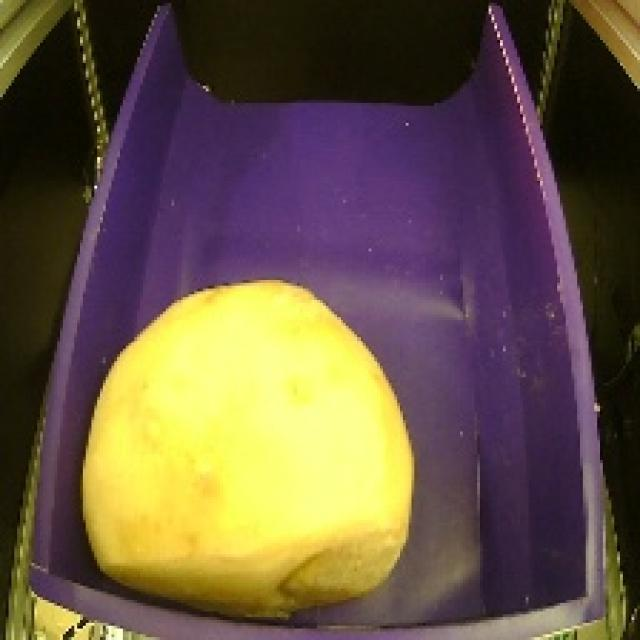full_potato: (67, 258, 428, 630)
